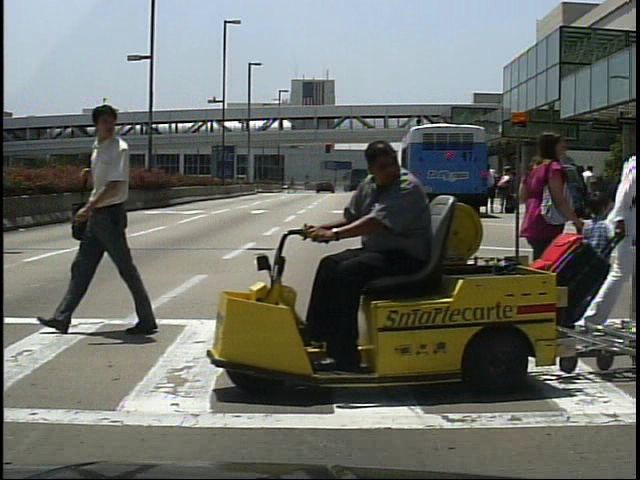person: (293, 135, 445, 374), (76, 100, 148, 337), (512, 123, 578, 354), (581, 118, 638, 344), (579, 183, 615, 326), (580, 162, 601, 217), (481, 162, 501, 216), (500, 165, 520, 218)
